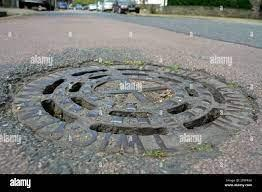open drainage-not overflowing-: (9, 62, 260, 152)
